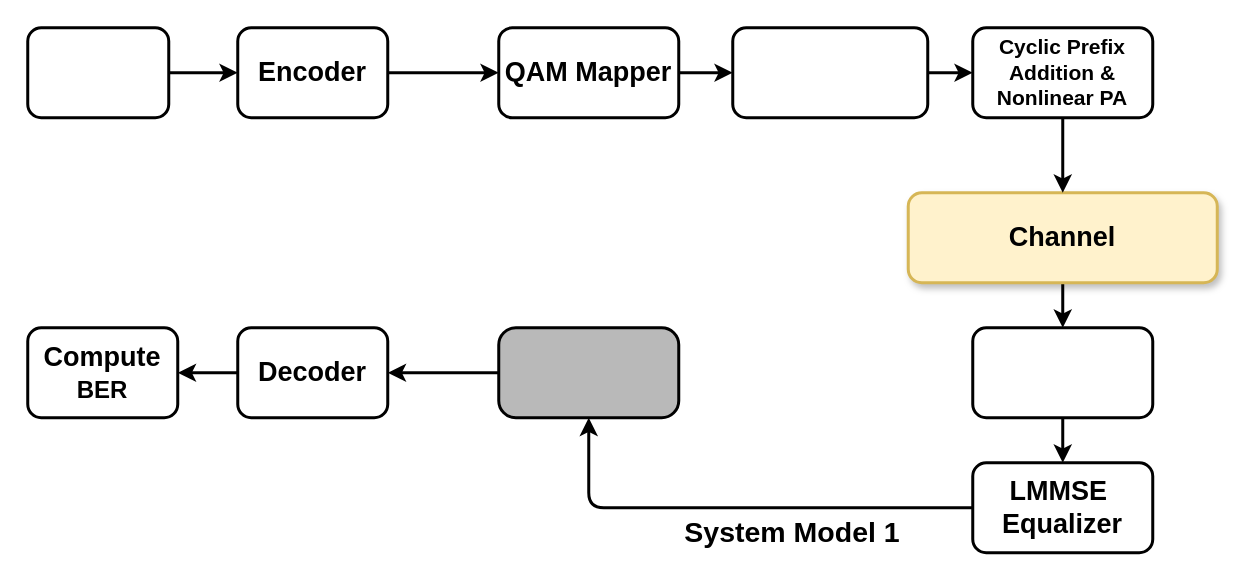
This 1253x584 diagram has some shape labels left out. Here are the shapes that lost their labels. From the top down, the centre of each, then its label:
At (98,72): "Binary Source".
At (829,72): "Pilot Insertion & OFDM Modulation (IFFT)".
At (588,372): "ESN Demapper".
At (1062,372): "LS Estimation".
